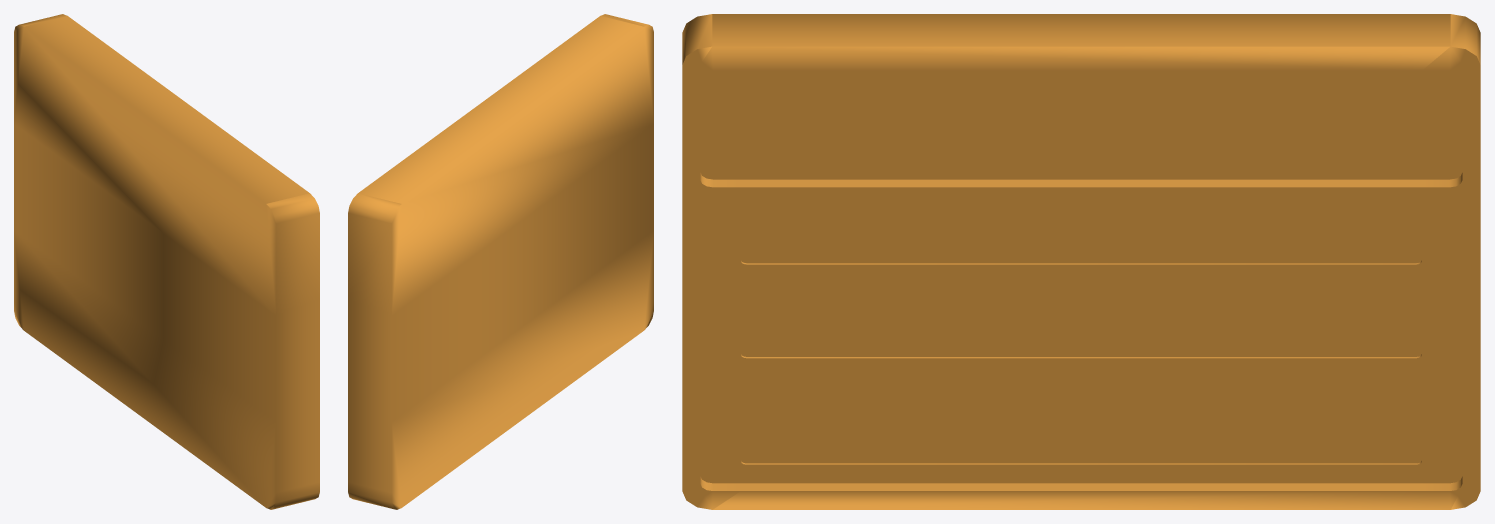
The model's file is SM_Wall_Basic.fbx.
3 renders of one model, left to right at view 1: azimuth 30°, elevation 25°; view 2: azimuth 150°, elevation 25°; view 3: azimuth 270°, elevation 25°, orthographic. The views are drawn at different scales.
Visible parts, largest first — view 1: SM_Wall_Basic; view 2: SM_Wall_Basic; view 3: SM_Wall_Basic.
Part boxes in pixels (x1,y1,x2,y2): SM_Wall_Basic: (14,14,319,509); SM_Wall_Basic: (348,14,653,509); SM_Wall_Basic: (682,14,1480,509).
Size of the model in its own units: 139 by 923 by 1442.
